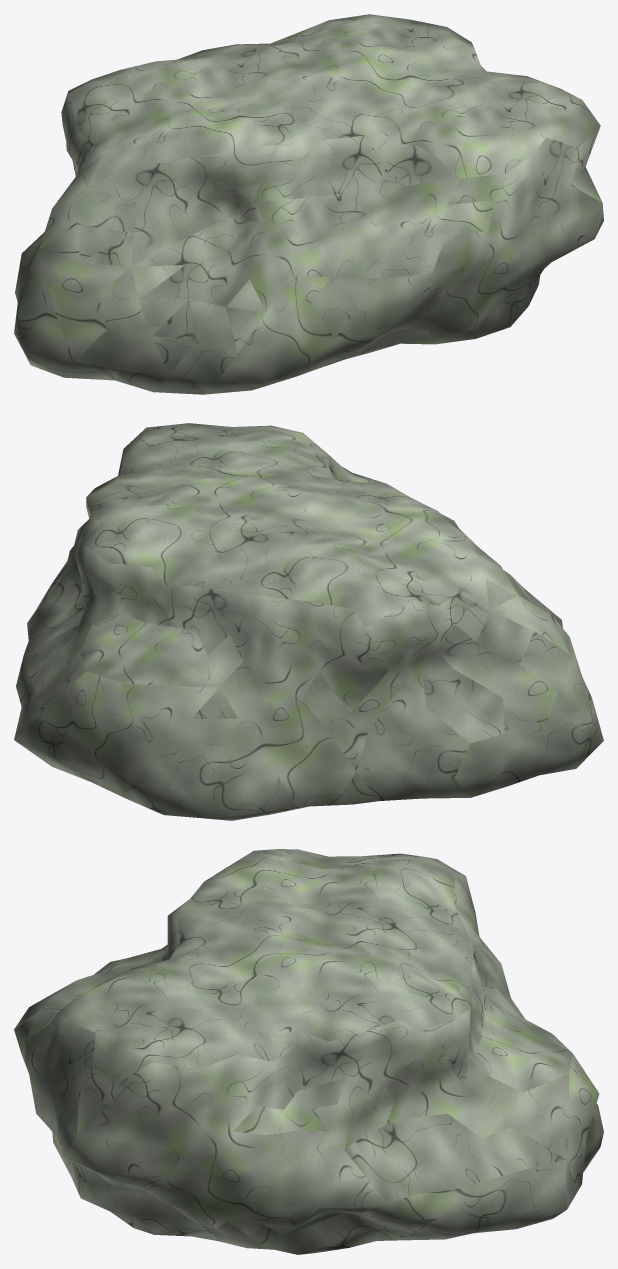
Rendered from outcrop_a.glb.
3 renders of one model, top to bottom at view 1: azimuth 30°, elevation 25°; view 2: azimuth 150°, elevation 25°; view 3: azimuth 270°, elevation 25°, orthographic. The views are drawn at different scales.
Parts seen in each view (by area): view 1: outcrop_a; view 2: outcrop_a; view 3: outcrop_a.
Part boxes in pixels (x1=…): outcrop_a: x1=14, y1=14, x2=603, y2=394; outcrop_a: x1=14, y1=423, x2=603, y2=820; outcrop_a: x1=14, y1=849, x2=603, y2=1254.
Bounding box in the file's own units: 6.36 × 2.46 × 5.58.
Materials: 1 (1 with a texture image).
